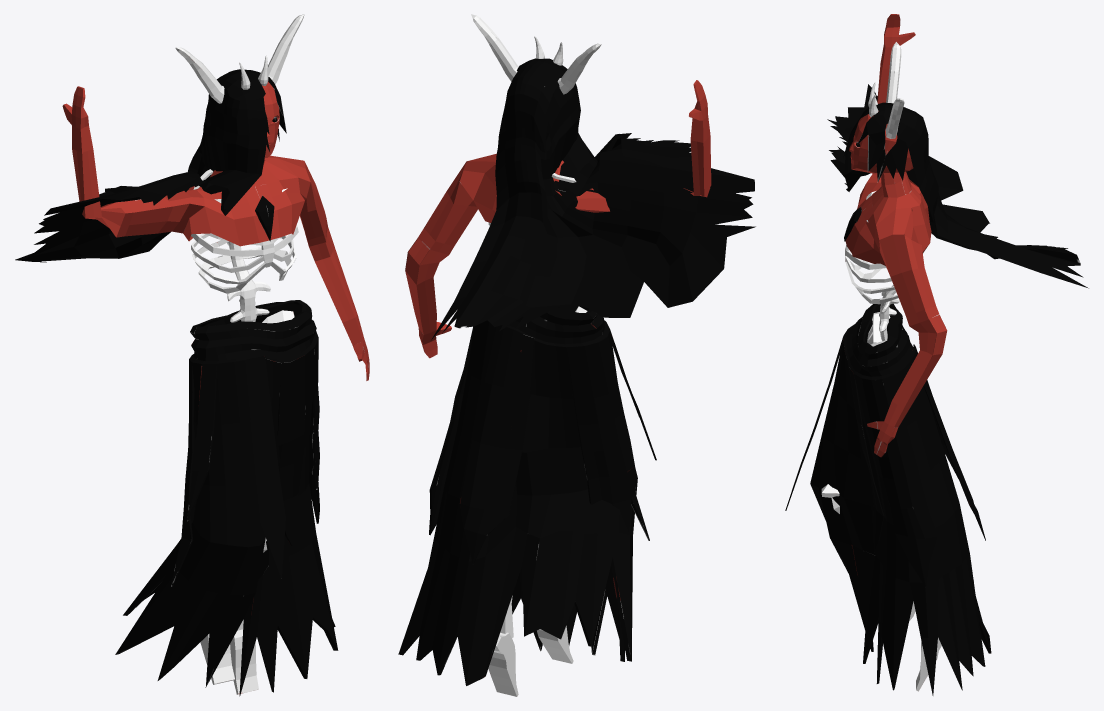
File: cursedqueenattack_13.fbx
3 views of the same model, side by side, from view 1: azimuth 30°, elevation 25°; view 2: azimuth 150°, elevation 25°; view 3: azimuth 270°, elevation 25° (orthographic). The views are drawn at different scales.
Parts seen in each view (by area): view 1: cursed_queen; view 2: cursed_queen; view 3: cursed_queen.
Part boxes in pixels (box(x1,y1,x2,y2)): cursed_queen: box(15, 14, 369, 696); cursed_queen: box(398, 14, 755, 696); cursed_queen: box(785, 14, 1088, 695).
Bounding box in the file's own units: 148 × 281 × 128.
